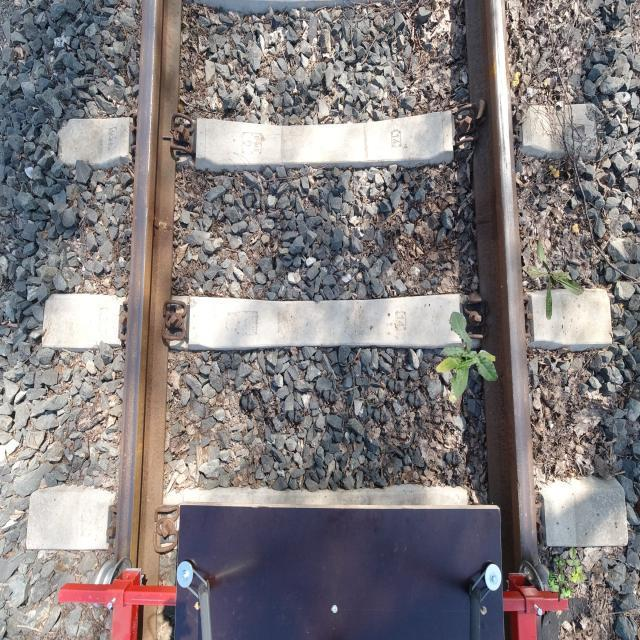Plant: (436, 311, 498, 404), (521, 237, 585, 321), (548, 547, 586, 602)
